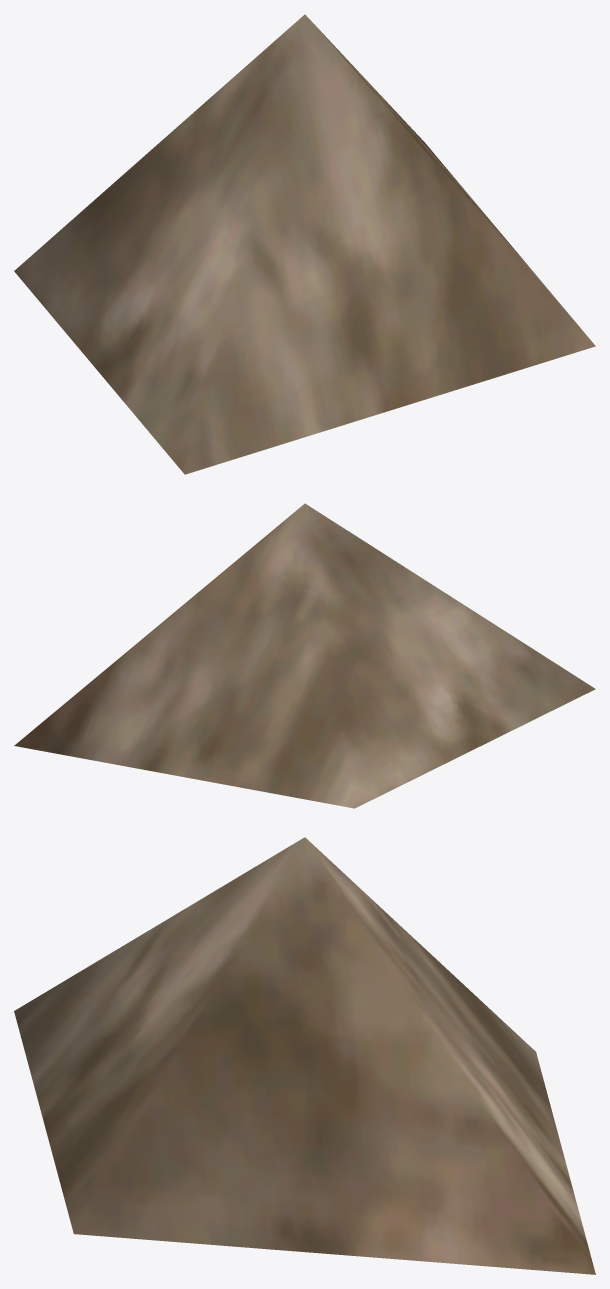
File: OVERHILL_A_01_PLANE13.fbx
3 renders of one model, top to bottom at view 1: azimuth 30°, elevation 25°; view 2: azimuth 150°, elevation 25°; view 3: azimuth 270°, elevation 25°, orthographic. The views are drawn at different scales.
Parts seen in each view (by area): view 1: OVERHILL_A_01_PLANE13; view 2: OVERHILL_A_01_PLANE13; view 3: OVERHILL_A_01_PLANE13.
Part boxes in pixels (bbox=[...]): OVERHILL_A_01_PLANE13: bbox=[14, 14, 595, 474]; OVERHILL_A_01_PLANE13: bbox=[14, 503, 595, 808]; OVERHILL_A_01_PLANE13: bbox=[14, 837, 595, 1274].
Bounding box in the file's own units: 1164 × 630 × 1086.
1 material, 1 textured.
